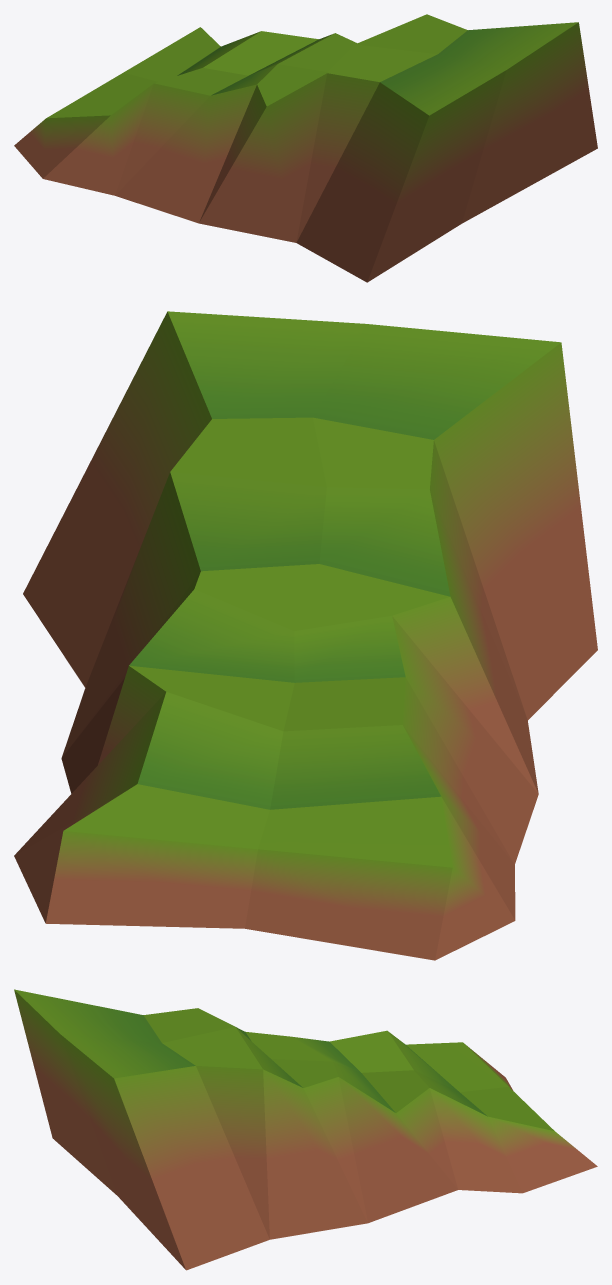
File: SM_Stairs_Map.fbx
3 renders of one model, top to bottom at view 1: azimuth 30°, elevation 25°; view 2: azimuth 150°, elevation 25°; view 3: azimuth 270°, elevation 25°, orthographic. The views are drawn at different scales.
Parts seen in each view (by area): view 1: stairs; view 2: stairs; view 3: stairs.
Boxes of the visible parts, x1,y1,x2,y2 form: stairs: (14,14,597,282); stairs: (14,311,597,960); stairs: (14,989,597,1270).
Bounding box in the file's own units: 132 × 52.11 × 155.
